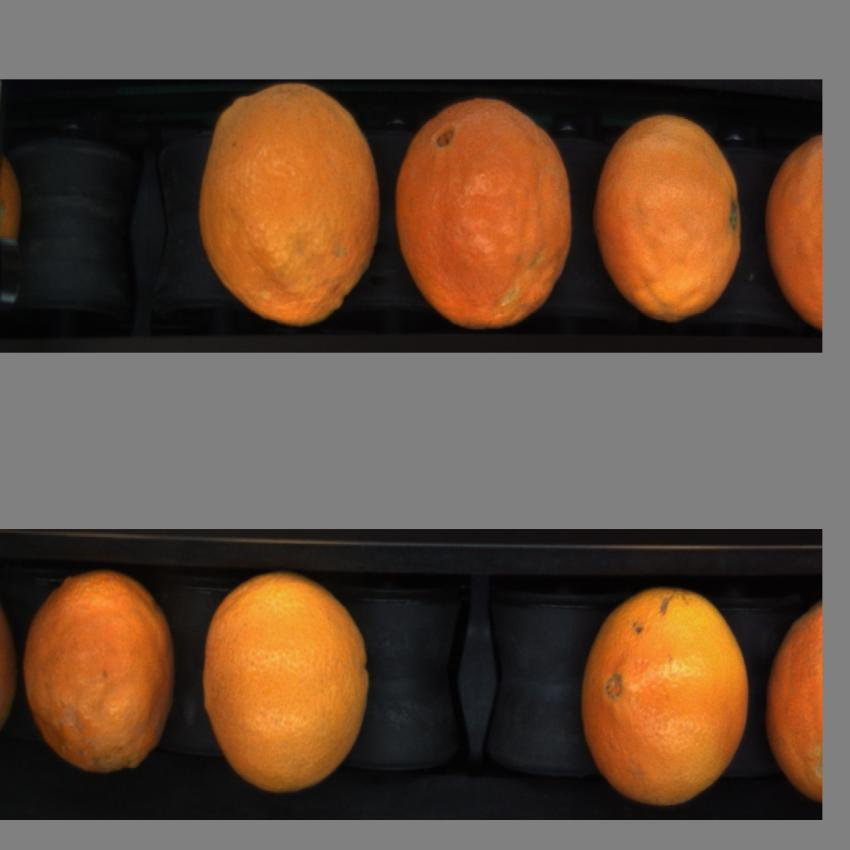Buen estado: (198, 79, 388, 330), (390, 83, 577, 338), (580, 574, 756, 812), (199, 572, 372, 796), (595, 88, 749, 339), (764, 134, 822, 346)
Mal estado: (20, 564, 176, 778), (767, 598, 824, 804)
